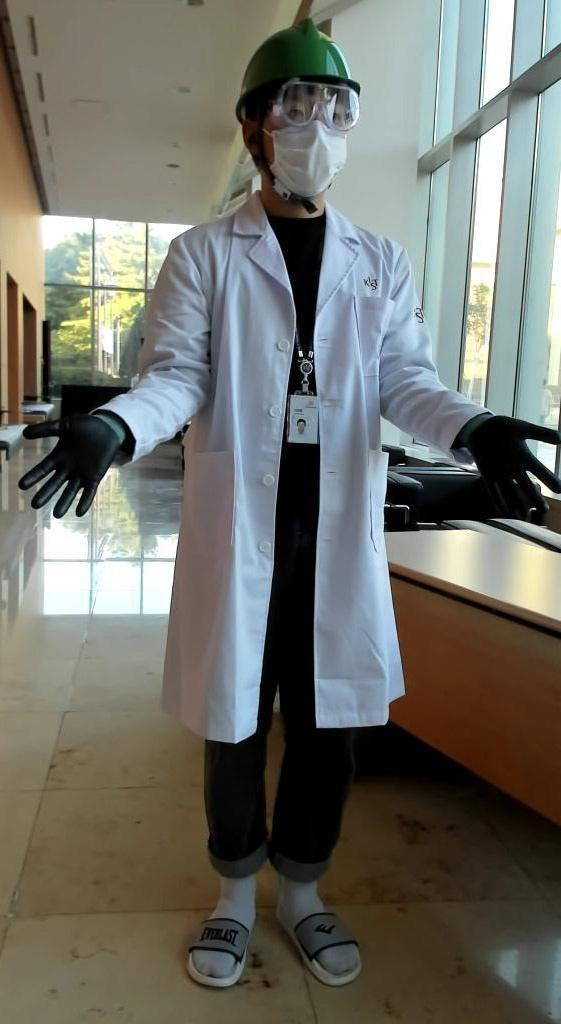lab_coat: (158, 236, 409, 722)
